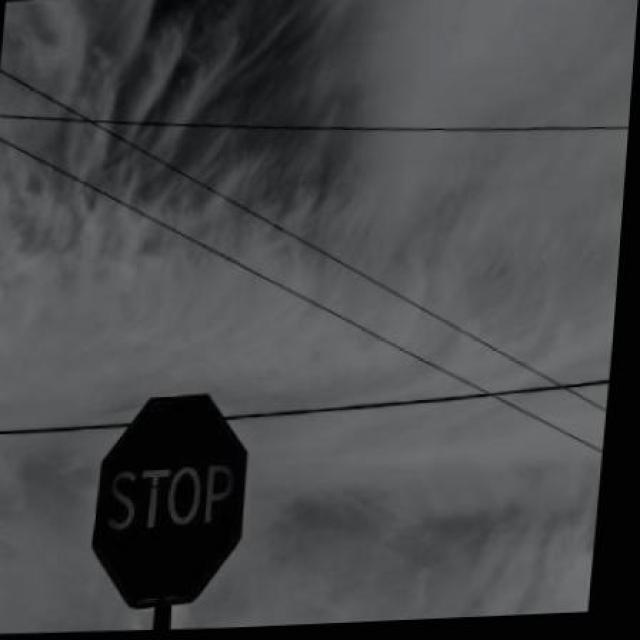Stop-Sign: (91, 393, 248, 610)
